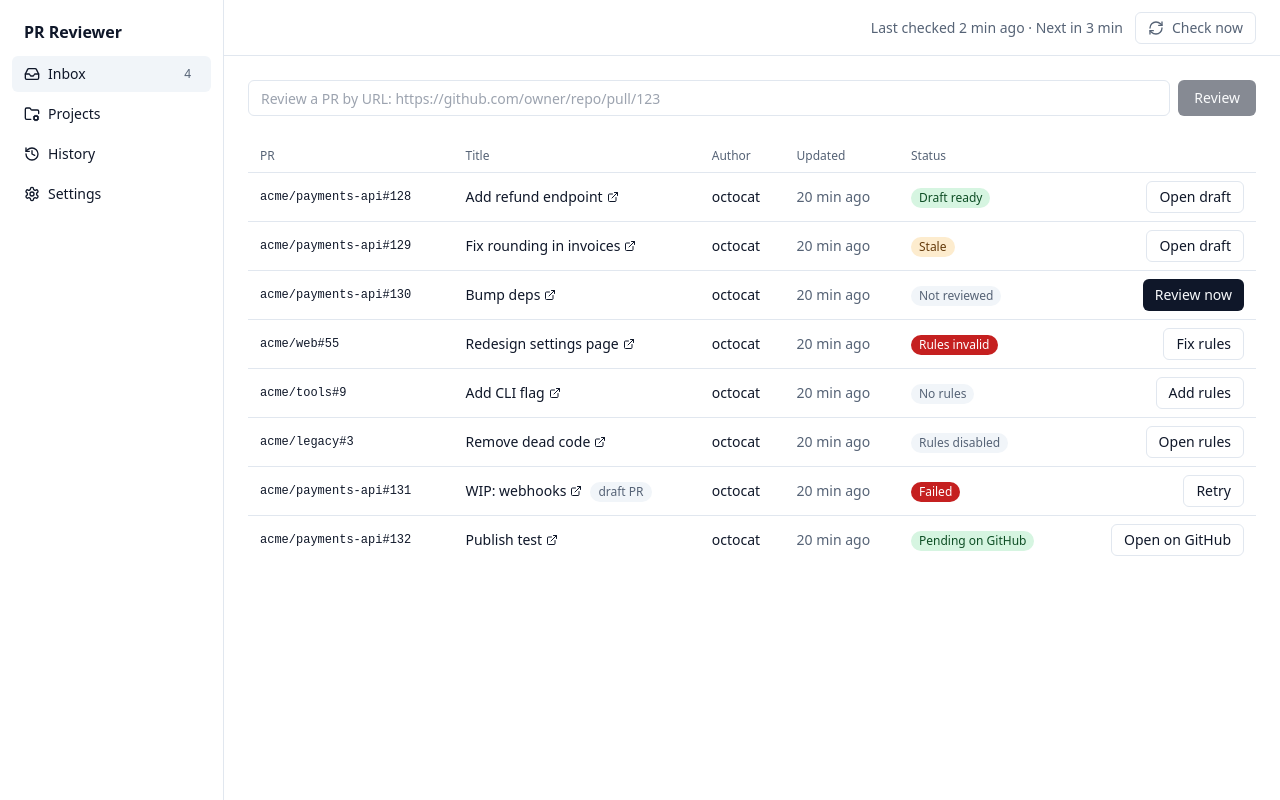
Test: Review a PR by URL › shows the backend error
Type "https://github.com/acme/payments-api/pull/1" into the field named "Pull request URL" at [709, 98], box [248,80,1170,116]
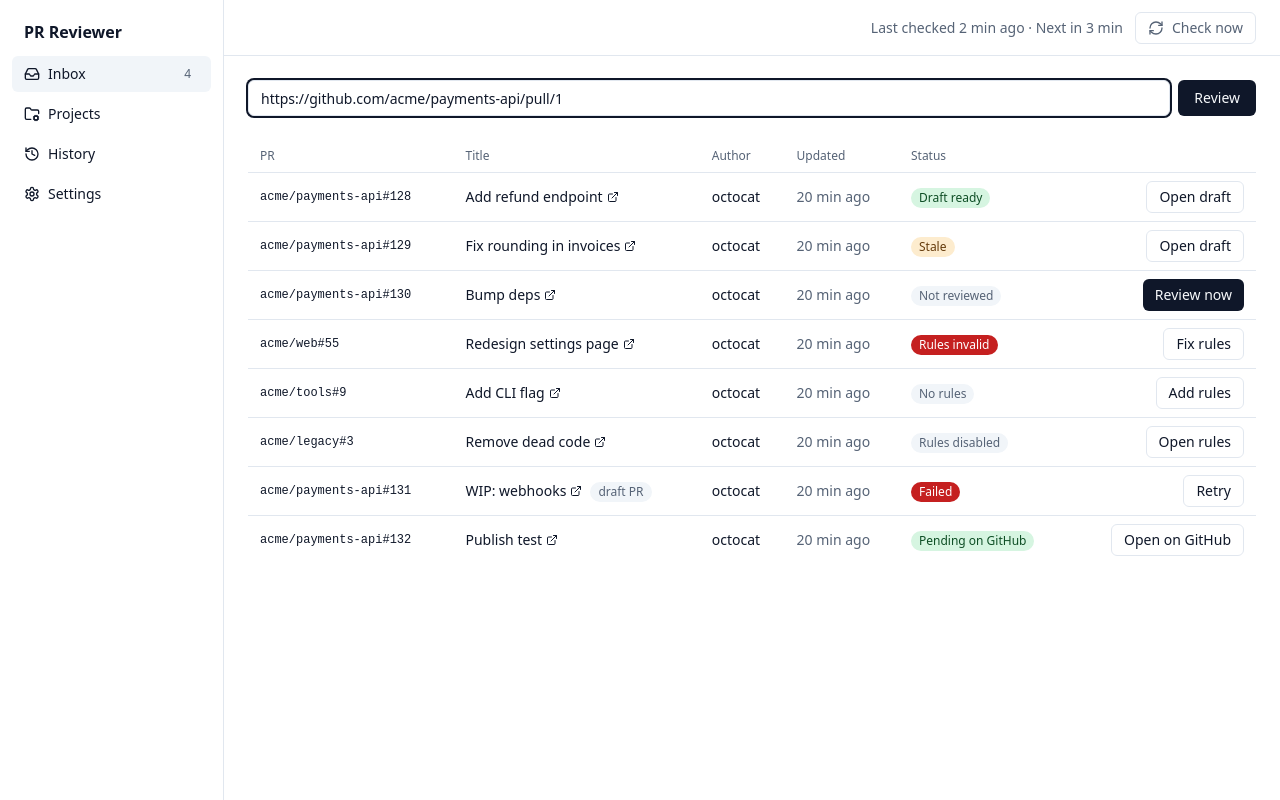
Click the button "Review" at [1217, 98], box [1178,80,1256,116]
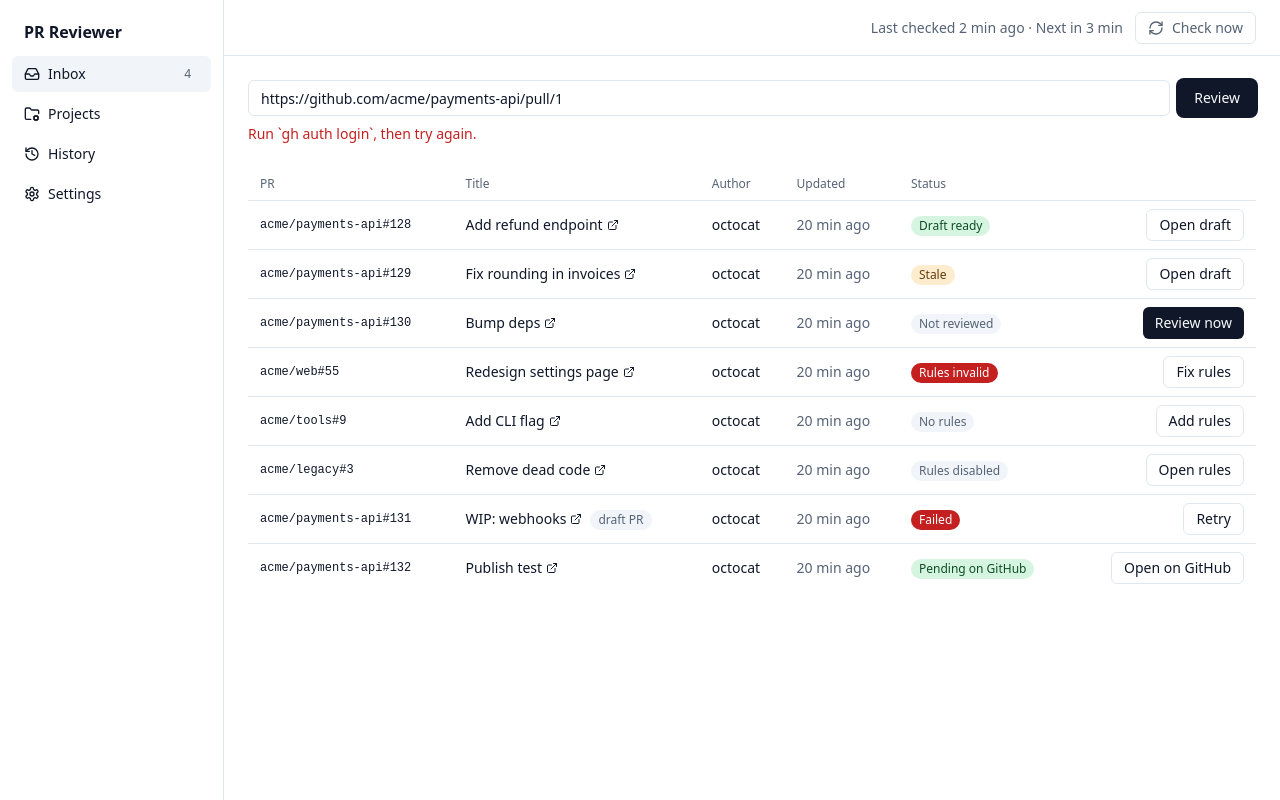
Result: the message shows "gh auth login" at [248,124,476,143]
